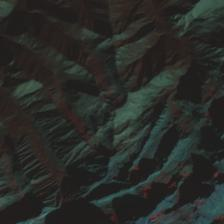landslides: (0, 198, 29, 223)
